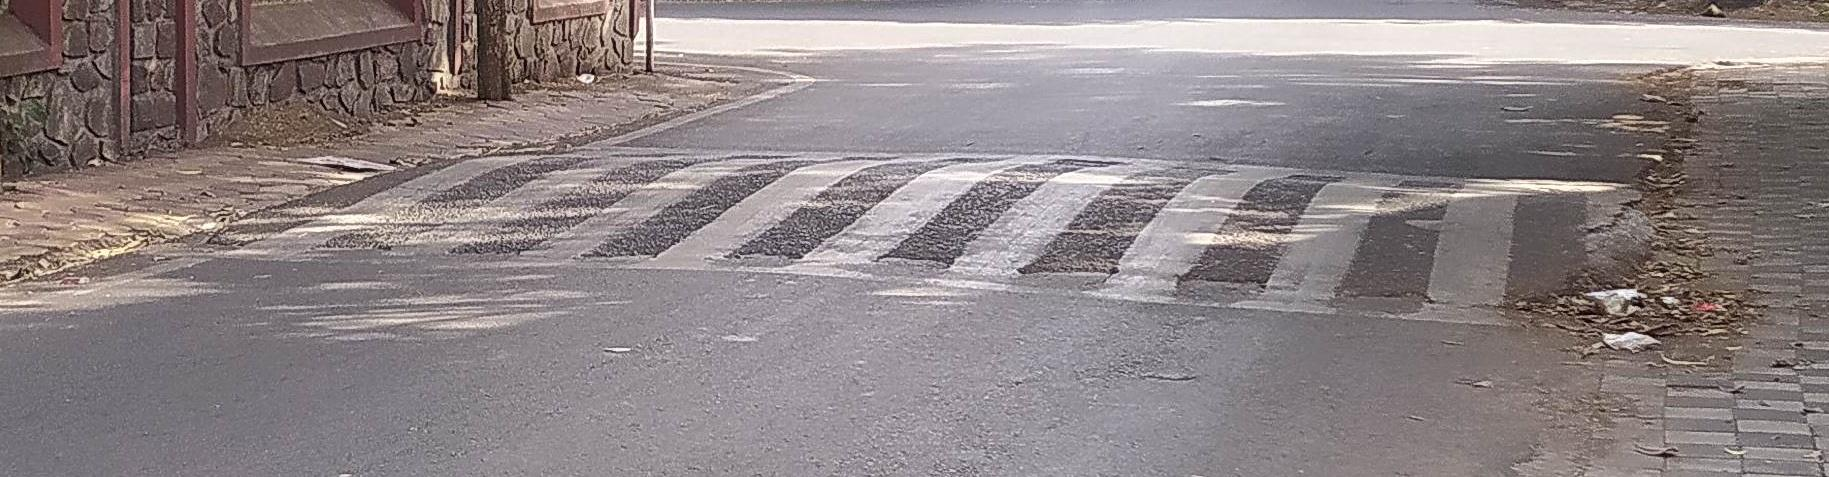speed-bump: (221, 144, 1652, 309)
